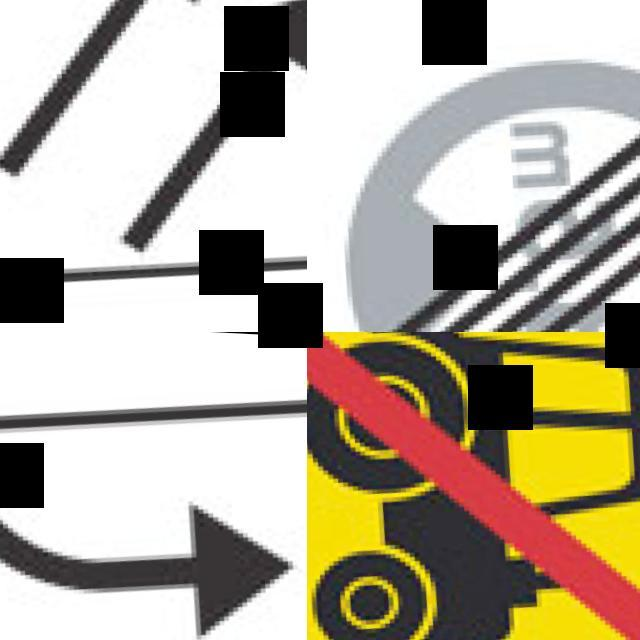111: (307, 0, 640, 332)
170: (0, 362, 307, 640)
48: (307, 332, 640, 640)
adjoining way: (0, 0, 307, 323)
